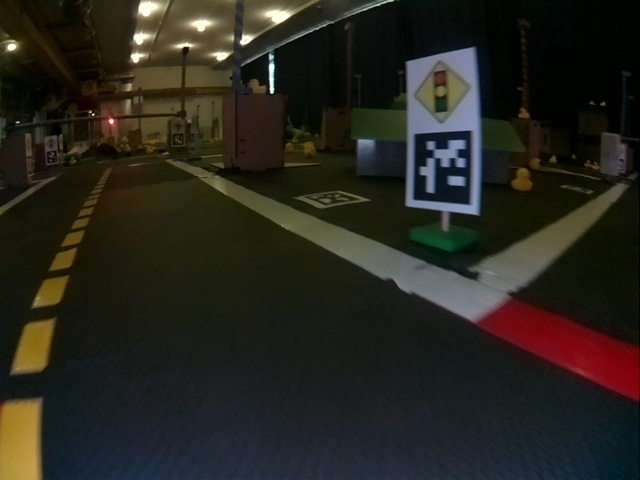Duckie: (513, 168, 530, 191), (249, 81, 264, 93), (518, 109, 526, 118), (550, 155, 556, 159)
QR code: (409, 130, 477, 212), (295, 191, 364, 210)
Signal sign: (408, 55, 476, 123)
